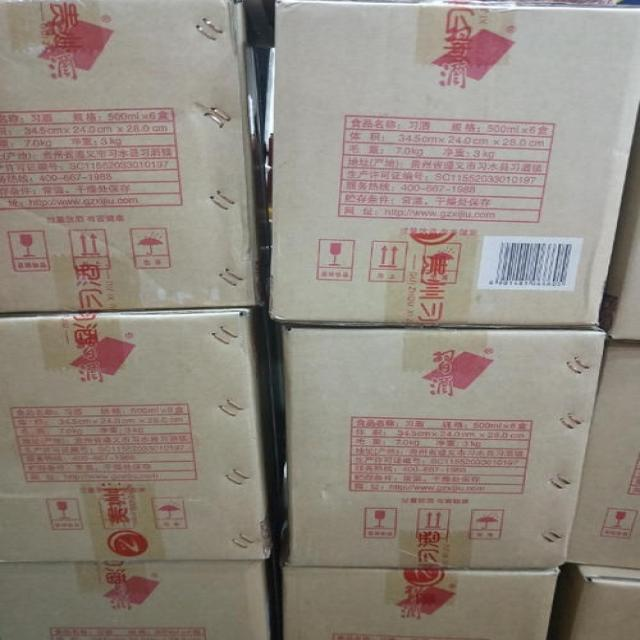Carton: (275, 7, 639, 328), (0, 0, 264, 315), (289, 329, 605, 570), (0, 310, 264, 570)
